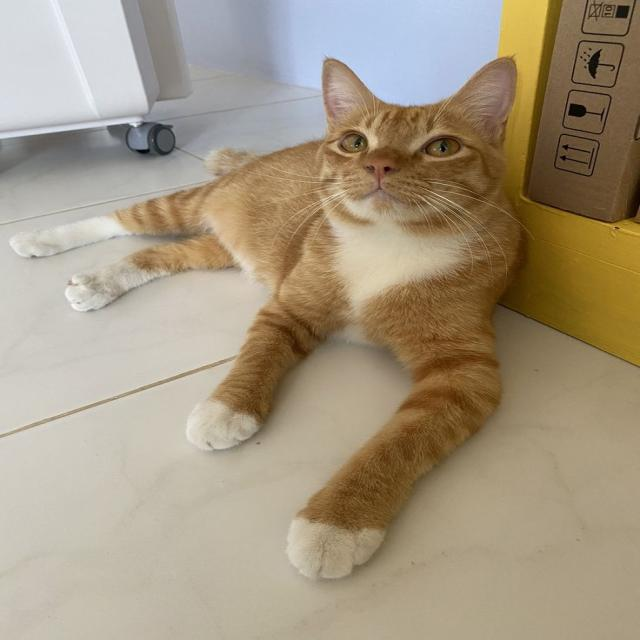sarman: (19, 19, 587, 616)
